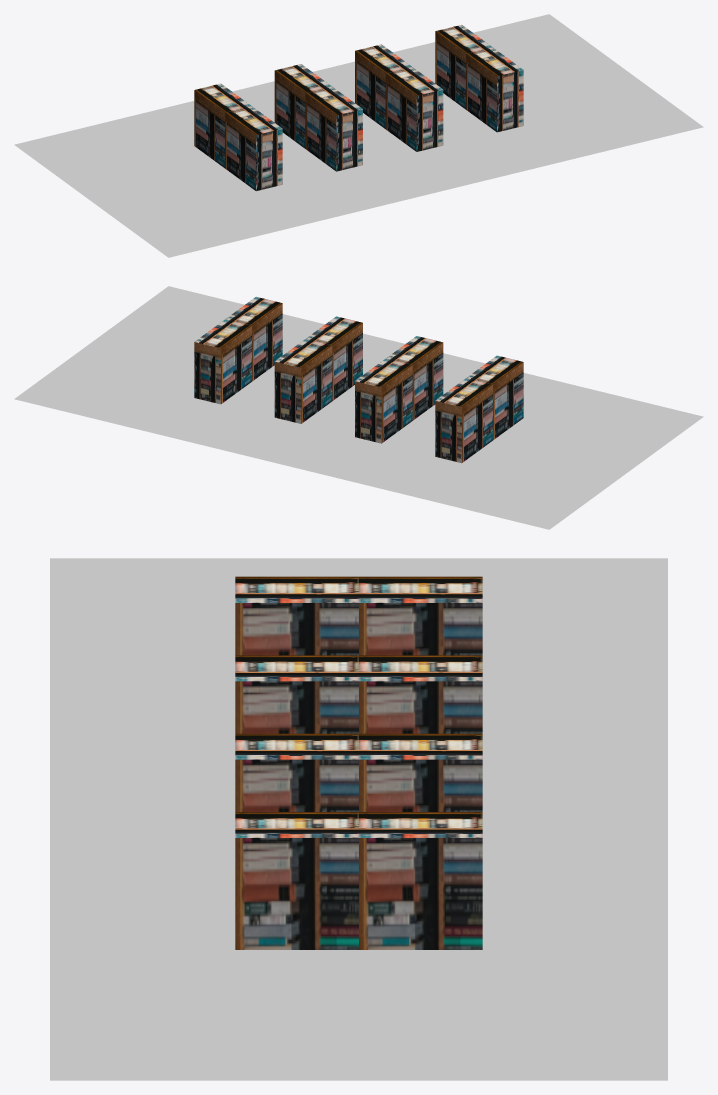
The model's file is library_map.glb.
3 views of the same model, one above another, from view 1: azimuth 30°, elevation 25°; view 2: azimuth 150°, elevation 25°; view 3: azimuth 270°, elevation 25° (orthographic). The views are drawn at different scales.
Visible parts, largest first — view 1: 평면.001, 큐브, 평면; view 2: 평면.001, 큐브, 평면; view 3: 평면.001, 큐브.
Boxes of the visible parts, box(x1,y1,x2,y2) form: 평면.001: box(14, 14, 703, 257); 큐브: box(194, 24, 523, 191); 평면: box(212, 168, 295, 194); 평면.001: box(14, 286, 703, 529); 큐브: box(194, 296, 523, 463); 평면: box(493, 418, 536, 443); 평면.001: box(50, 558, 667, 1080); 큐브: box(235, 576, 482, 949).
Size of the model in its own units: 20 by 2 by 10.
Materials: 1 (1 with a texture image).
